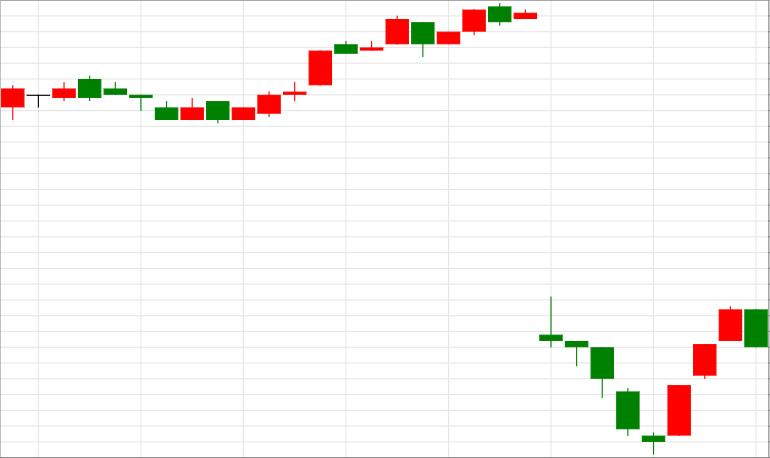morning_star_rise: (488, 2, 691, 454)
